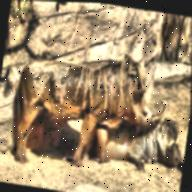boar: (0, 33, 158, 175), (120, 112, 188, 180)
